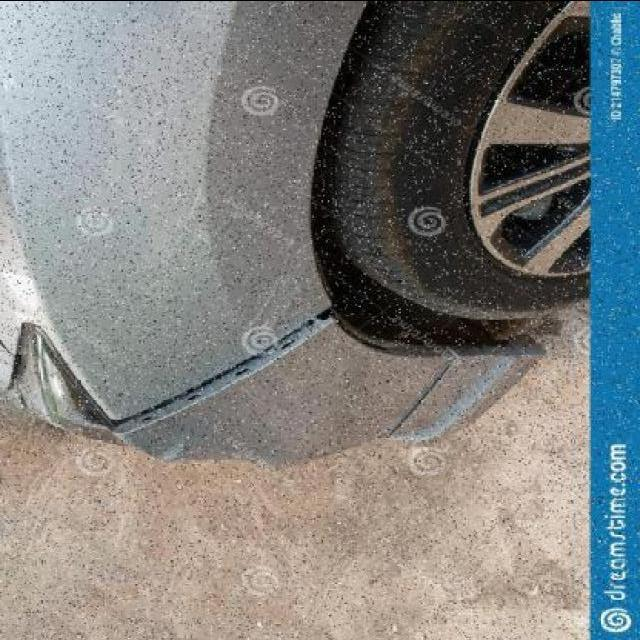front-bumper-dent: (61, 276, 537, 489)
